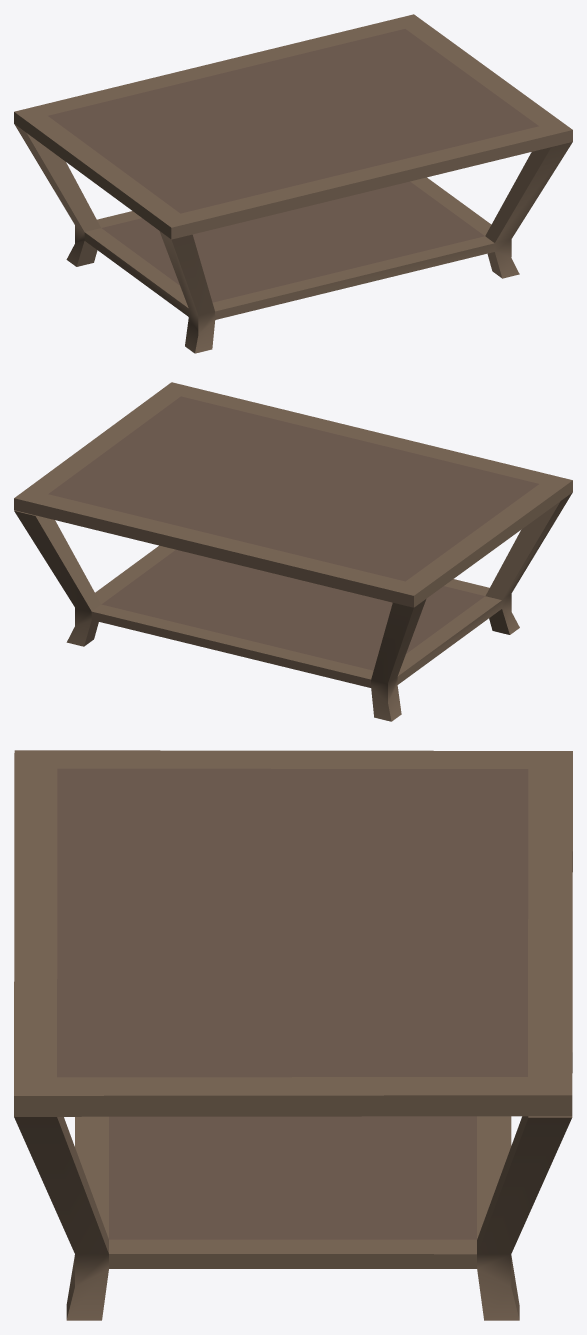
File: Coffee Table.fbx
3 views of the same model, one above another, from view 1: azimuth 30°, elevation 25°; view 2: azimuth 150°, elevation 25°; view 3: azimuth 270°, elevation 25° (orthographic). The views are drawn at different scales.
Visible parts, largest first — view 1: pCube9; view 2: pCube9; view 3: pCube9.
Boxes of the visible parts, box(x1,y1,x2,y2) form: pCube9: box(14, 14, 572, 353); pCube9: box(14, 382, 572, 721); pCube9: box(14, 750, 572, 1320).
Bounding box in the file's own units: 318 × 111 × 217.
